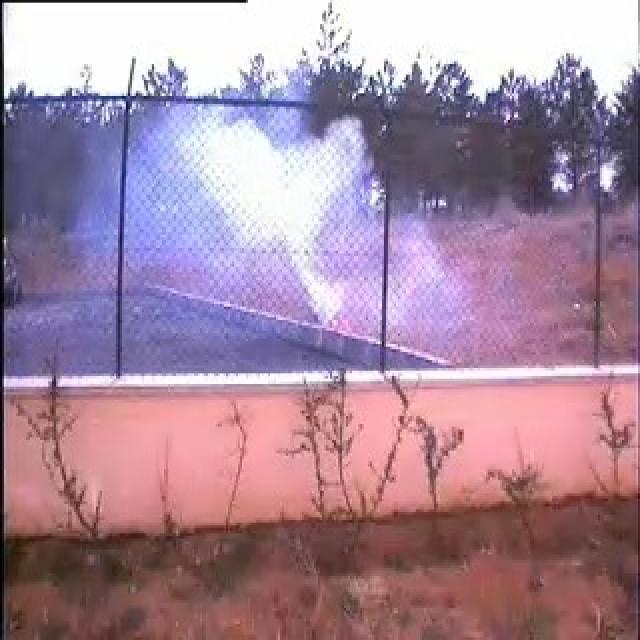smoke: (120, 96, 449, 332)
